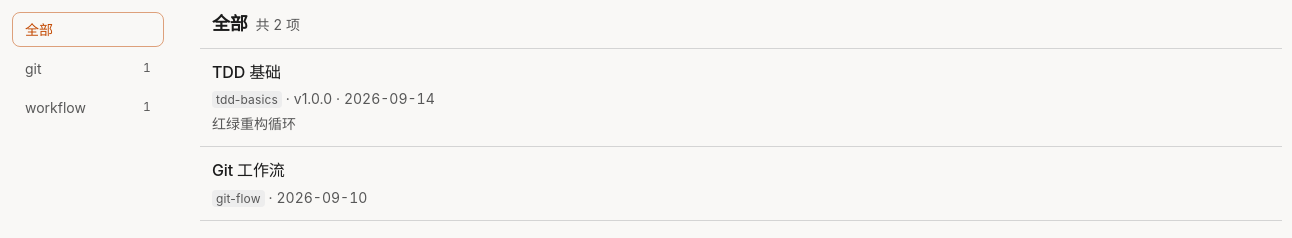
Scenario: SkillsExplorer 正常渲染 › 点击分类过滤条目
Click the button "workflow 1" at (88,108), box [12,90,164,125]
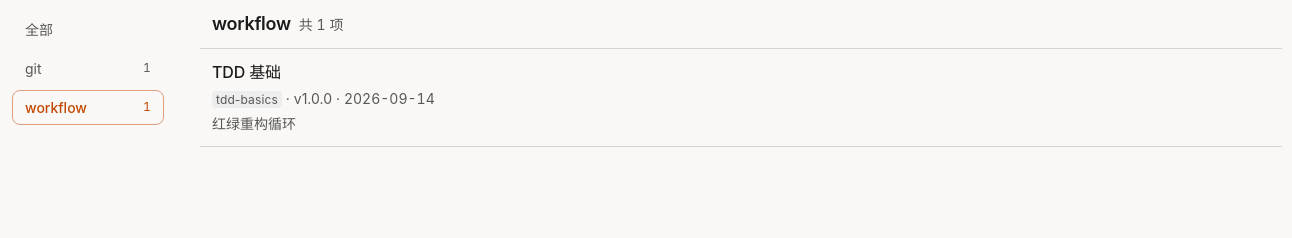
Expected: the link "TDD 基础" is shown, [212,62,281,82]
Expected: the link "Git 工作流" is gone
